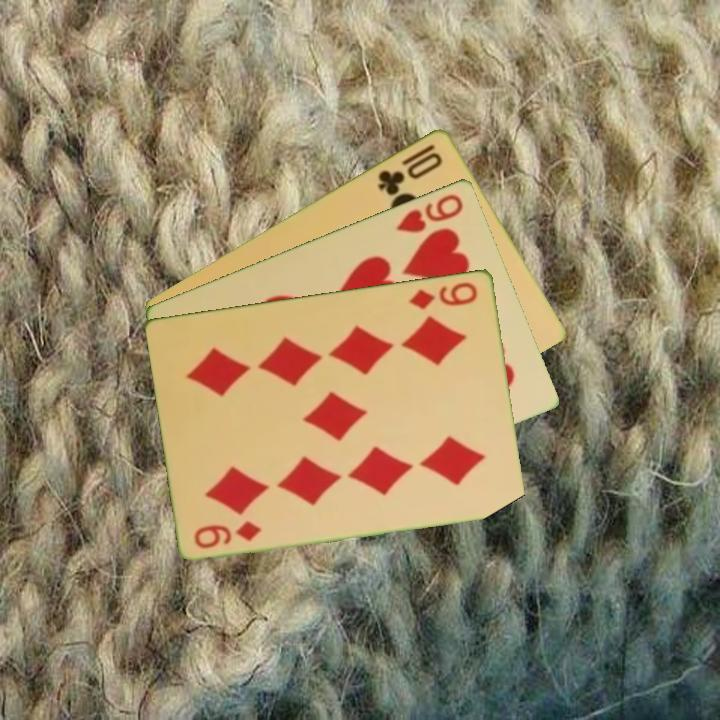10c: (374, 140, 446, 199)
9d: (191, 516, 265, 551), (406, 278, 481, 312)
9h: (393, 190, 467, 236)
